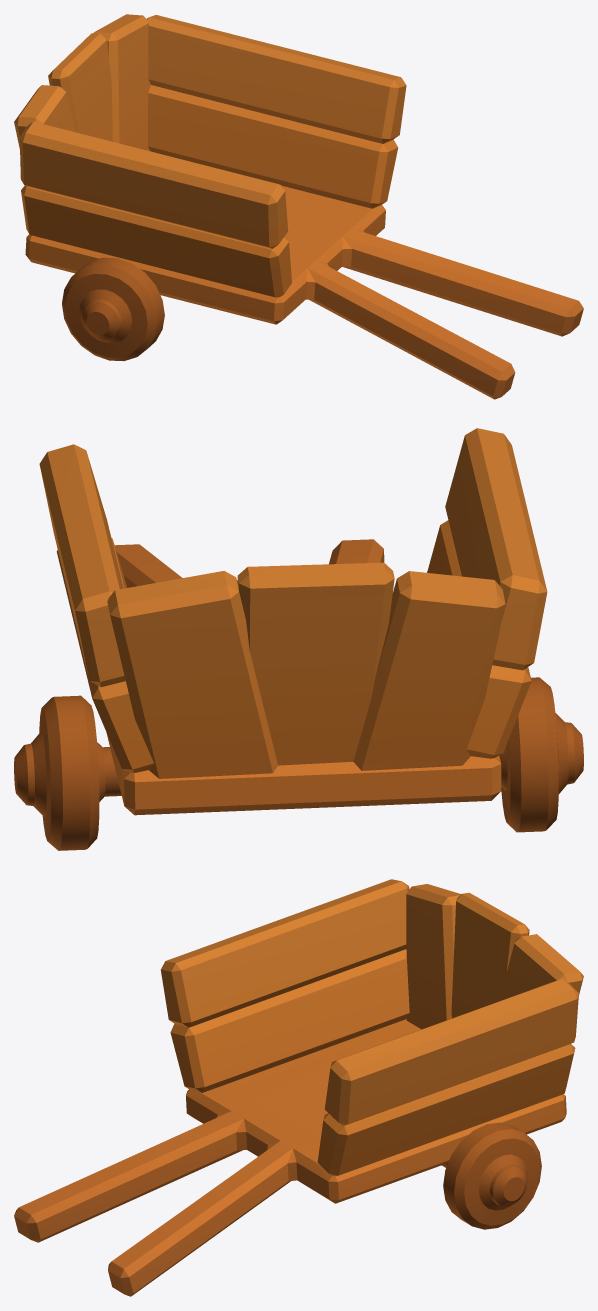
File: charrette-2.glb
3 renders of one model, top to bottom at view 1: azimuth 30°, elevation 25°; view 2: azimuth 150°, elevation 25°; view 3: azimuth 270°, elevation 25°, orthographic. The views are drawn at different scales.
Parts seen in each view (by area): view 1: Cart_Material_main_0; view 2: Cart_Material_main_0; view 3: Cart_Material_main_0.
Part boxes in pixels (x1,y1,x2,y2): Cart_Material_main_0: [14, 14, 583, 399]; Cart_Material_main_0: [14, 428, 583, 850]; Cart_Material_main_0: [14, 879, 583, 1296].
Size of the model in its own units: 1.6 by 0.811 by 1.79.
1 material, 1 textured.
